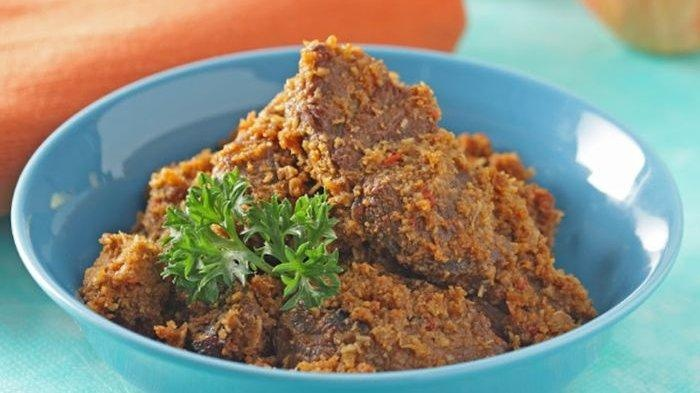rendang: (99, 46, 594, 360)
